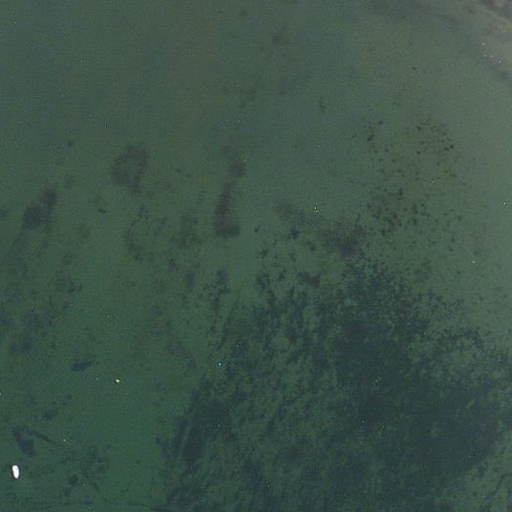ship: (9, 463, 21, 480)
